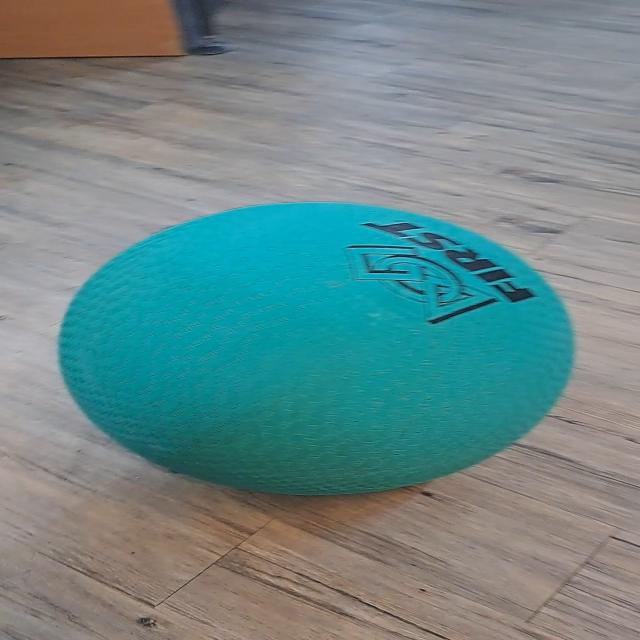ALGAE: (55, 200, 577, 498)
